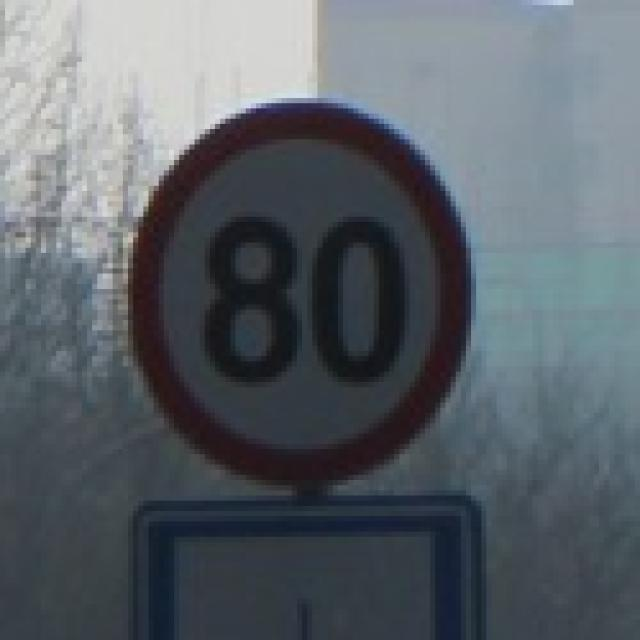Speed Limit -80-: (200, 210, 408, 388)
